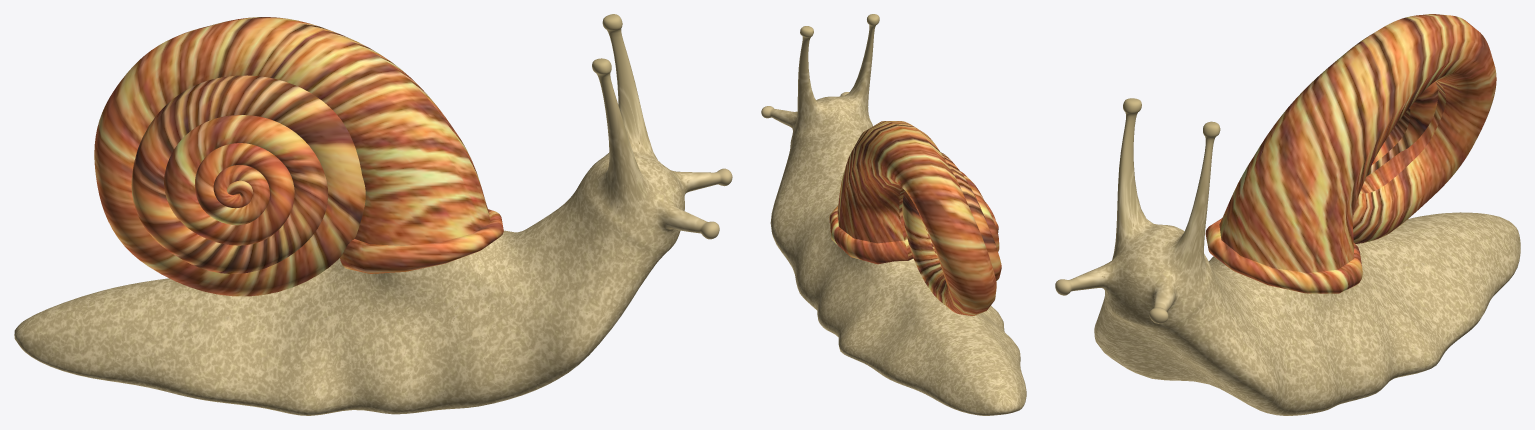
The model's file is snail-v2.glb.
3 renders of one model, left to right at view 1: azimuth 30°, elevation 25°; view 2: azimuth 150°, elevation 25°; view 3: azimuth 270°, elevation 25°, orthographic. The views are drawn at different scales.
Visible parts, largest first — view 1: Snail, Shell; view 2: Snail, Shell; view 3: Snail, Shell.
Boxes of the visible parts, x1,y1,x2,y2 form: Snail: (14,14,732,415); Shell: (94,17,503,296); Snail: (761,14,1026,415); Shell: (829,121,1001,315); Snail: (1055,98,1520,415); Shell: (1205,14,1496,293).
Bounding box in the file's own units: 2.07 × 1.27 × 1.63.
2 materials, 2 textured.
